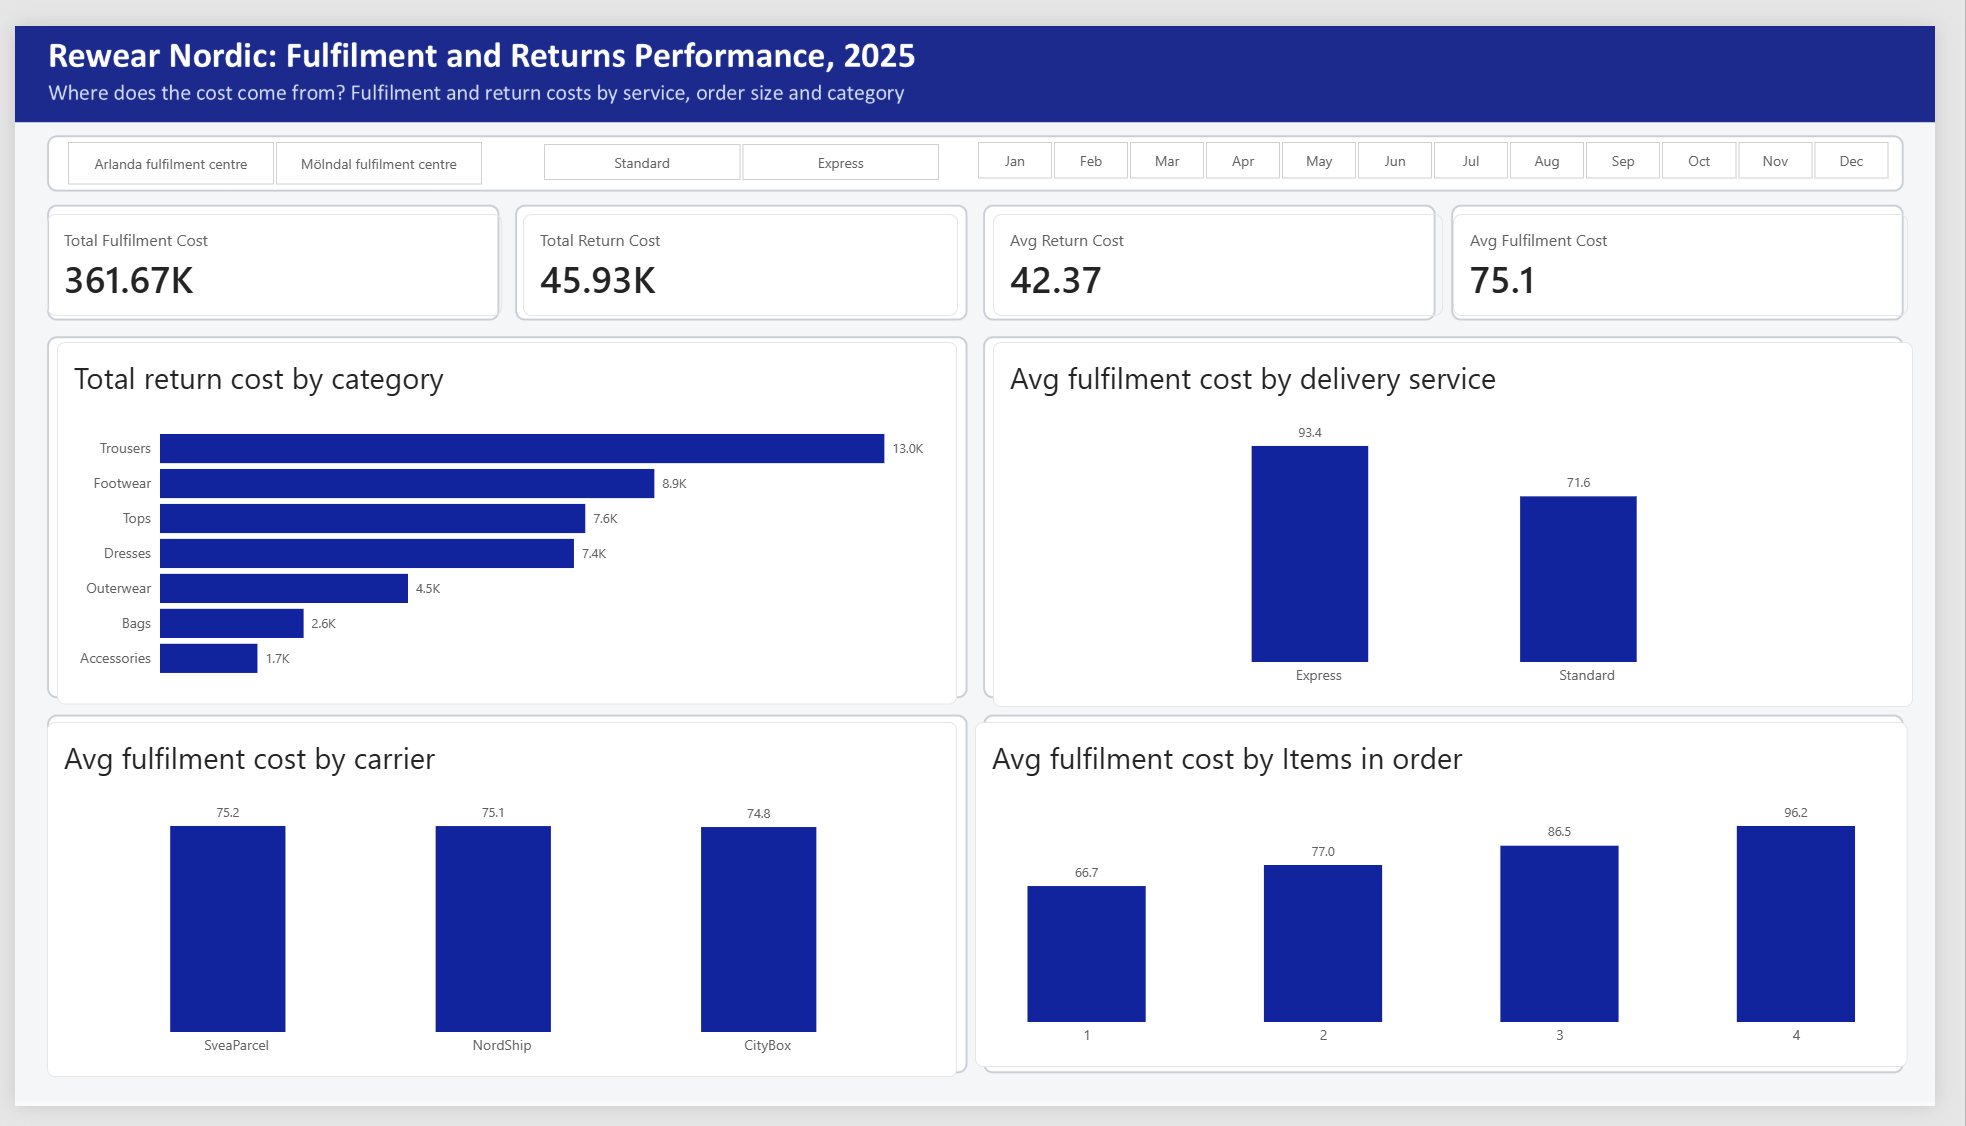

The page's visual inventory and layout, read from the dashboard file:
{"tool":"powerbi","page":{"name":"Cost","canvas":[1920,1080],"ordinal":3},"visuals":[{"type":"cardVisual","fields":{"Data":["Measures (2).Avg Fulfilment Cost"]},"box":[1437.1,188.1,455.8,102.8],"z":0},{"type":"cardVisual","fields":{"Data":["Measures (2).Total Fulfilment Cost"]},"box":[32.5,187.5,455,102.5],"z":1000},{"type":"cardVisual","fields":{"Data":["Measures (2).Avg Return Cost"]},"box":[977.5,187.5,450,102.5],"z":2000},{"type":"cardVisual","fields":{"Data":["Measures (2).Total Return Cost"]},"box":[507.5,187.5,435,102.5],"z":3000},{"type":"clusteredColumnChart","title":"Avg fulfilment cost by delivery service","fields":{"Category":["T_Orders.Delivery_Service"],"Y":["Measures (2).Avg Fulfilment Cost"]},"box":[977.5,315,920,365],"z":4000},{"type":"clusteredColumnChart","title":"Avg fulfilment cost by Items in order","fields":{"Category":["T_Orders.Items In Order"],"Y":["Measures (2).Avg Fulfilment Cost"]},"box":[960,695,932.5,345],"z":5000},{"type":"clusteredColumnChart","title":"Avg fulfilment cost by carrier","fields":{"Category":["T_Fulfilment.Carrier"],"Y":["Measures (2).Avg Fulfilment Cost"]},"box":[32.5,695,910,355],"z":6000},{"type":"barChart","title":"Total return cost by category","fields":{"Category":["T_Products.Category"],"Y":["Measures (2).Total Return Cost"]},"box":[42.5,315,900,362.5],"z":7000},{"type":"slicer","fields":{"Values":["Dim_Date.Month"]},"box":[942.5,114.4,950.3,40.7],"z":8000},{"type":"slicer","fields":{"Values":["T_Orders.Delivery_Service"]},"box":[507.5,115,435,40],"z":9000},{"type":"slicer","fields":{"Values":["T_Warehouses.Warehouse_Name"]},"box":[33,114.4,453.8,46.5],"z":10000}]}

Visuals, with their boxes in screenshot pixels (x1, y1, x2, y2), scaled from the page's 1920x1080 canvas onto the 1966x1126 screenshot:
cardVisual - Measures (2).Avg Fulfilment Cost: bbox=[1472, 196, 1938, 303]
cardVisual - Measures (2).Total Fulfilment Cost: bbox=[33, 195, 499, 302]
cardVisual - Measures (2).Avg Return Cost: bbox=[1001, 195, 1462, 302]
cardVisual - Measures (2).Total Return Cost: bbox=[520, 195, 965, 302]
"Avg fulfilment cost by delivery service" clusteredColumnChart: bbox=[1001, 328, 1943, 709]
"Avg fulfilment cost by Items in order" clusteredColumnChart: bbox=[983, 725, 1938, 1084]
"Avg fulfilment cost by carrier" clusteredColumnChart: bbox=[33, 725, 965, 1095]
"Total return cost by category" barChart: bbox=[44, 328, 965, 706]
slicer - Dim_Date.Month: bbox=[965, 119, 1938, 162]
slicer - T_Orders.Delivery_Service: bbox=[520, 120, 965, 162]
slicer - T_Warehouses.Warehouse_Name: bbox=[34, 119, 498, 168]
